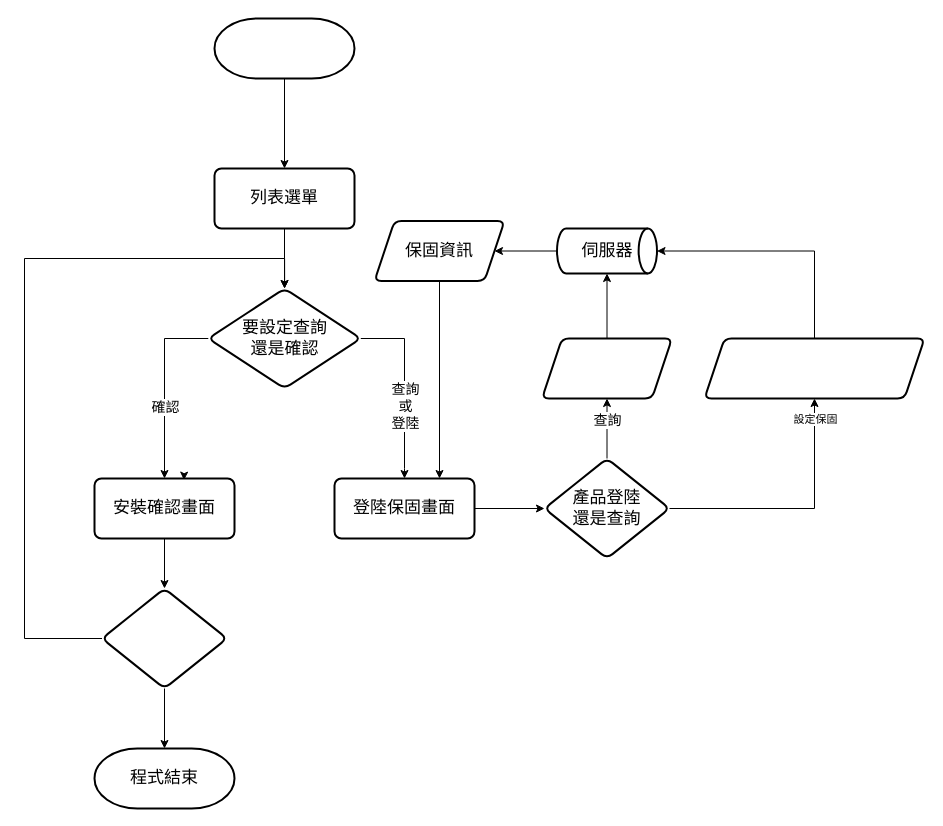
The diagram is 943 pixels wide and 826 high, and some of its shapes have lost their labels. The shapes that lost their labels are listed below. From the top down, each one's centre as x and y in pixels, then its label:
point 284,48: 程式開始
point 606,368: 產品序號
point 814,368: 產品序號 型號、開始日期、保固年限
point 164,638: 資訊 有無錯誤
